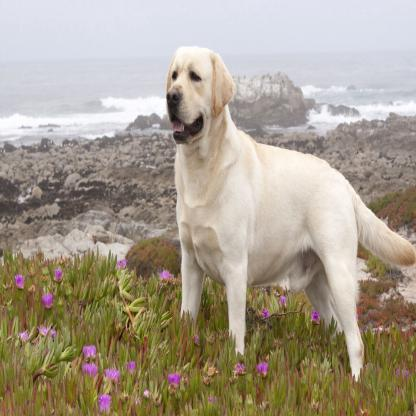Rotveler: (164, 45, 415, 381)
